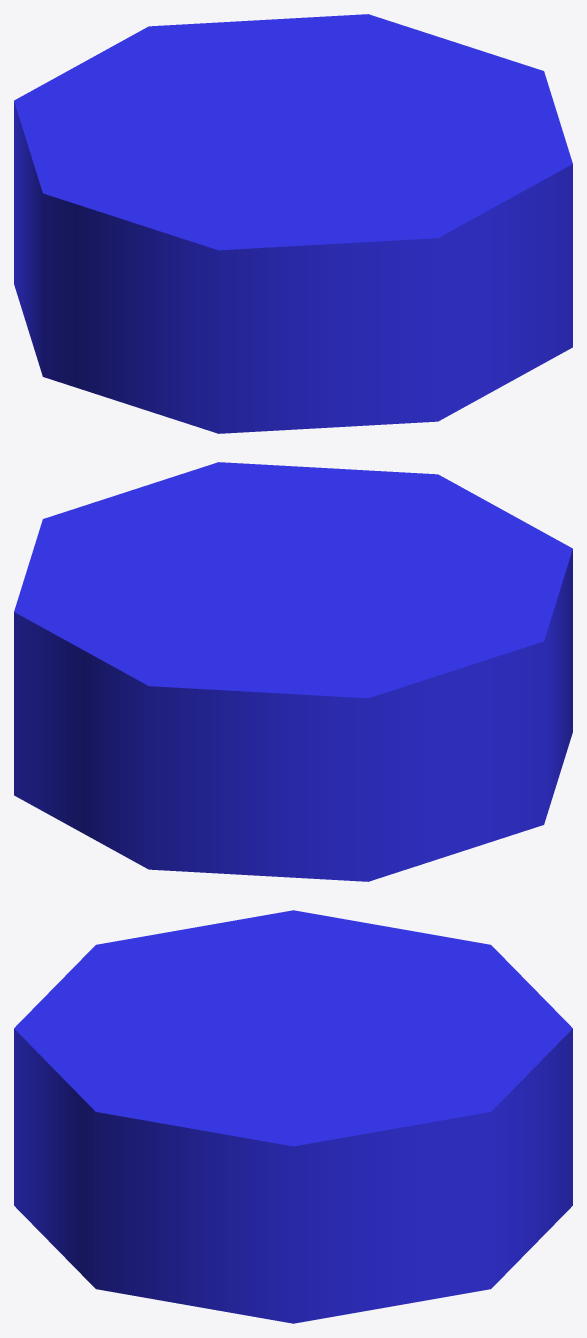
The model's file is prop_tyre_1x1_collider.FBX.
3 views of the same model, one above another, from view 1: azimuth 30°, elevation 25°; view 2: azimuth 150°, elevation 25°; view 3: azimuth 270°, elevation 25° (orthographic). The views are drawn at different scales.
Parts seen in each view (by area): view 1: prop_tyre_collider; view 2: prop_tyre_collider; view 3: prop_tyre_collider.
Boxes of the visible parts, bbox=[...] form: prop_tyre_collider: bbox=[14, 14, 572, 433]; prop_tyre_collider: bbox=[14, 462, 572, 881]; prop_tyre_collider: bbox=[14, 910, 572, 1323].
Bounding box in the file's own units: 32.52 × 11.38 × 32.52.
